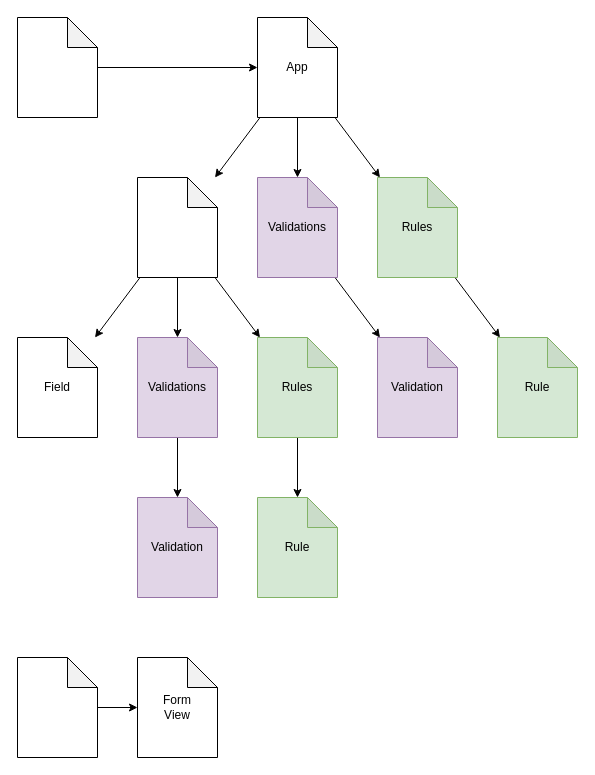
Image size: 595x775. Some labels were removed from this diagram. Each missing label, with the centre of its shape:
"Apps" belongs at (57,67).
"Fields" belongs at (177,227).
"Table View" belongs at (57,707).
